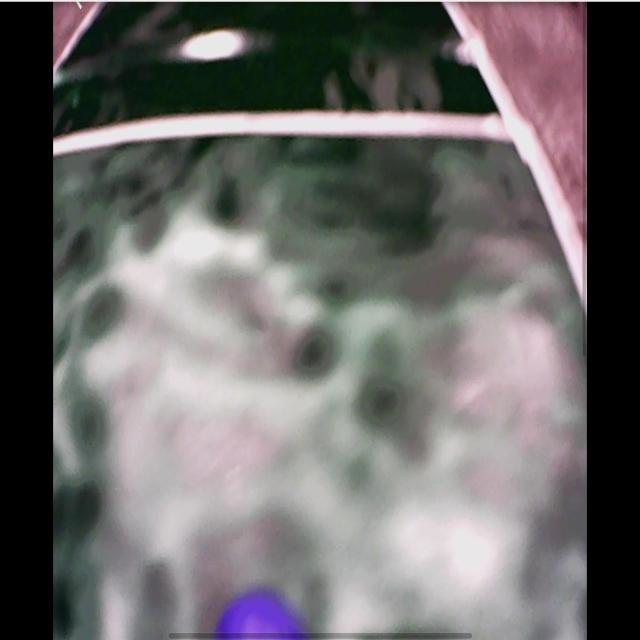ball: (211, 595, 300, 638)
